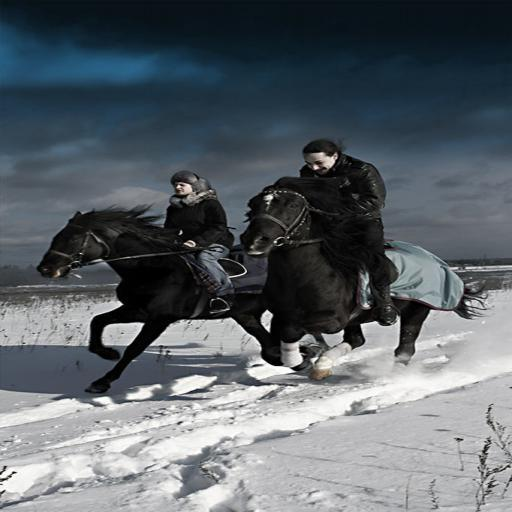horse: (34, 200, 334, 393), (236, 184, 495, 382)
